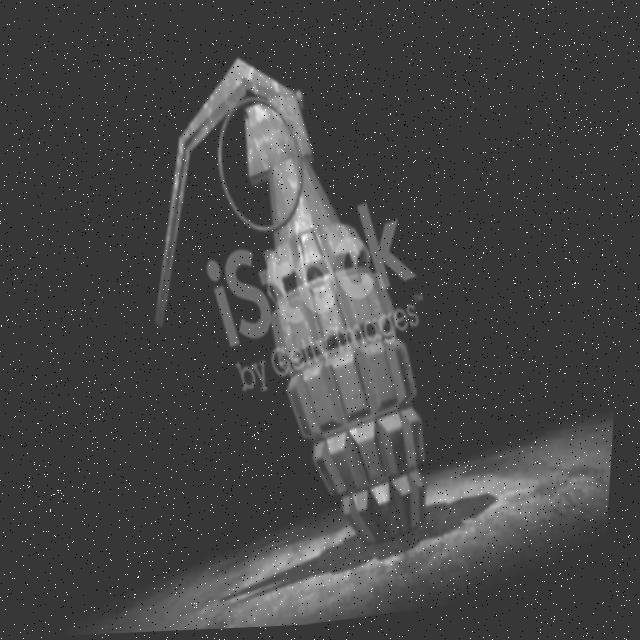grenade: (68, 4, 492, 616)
